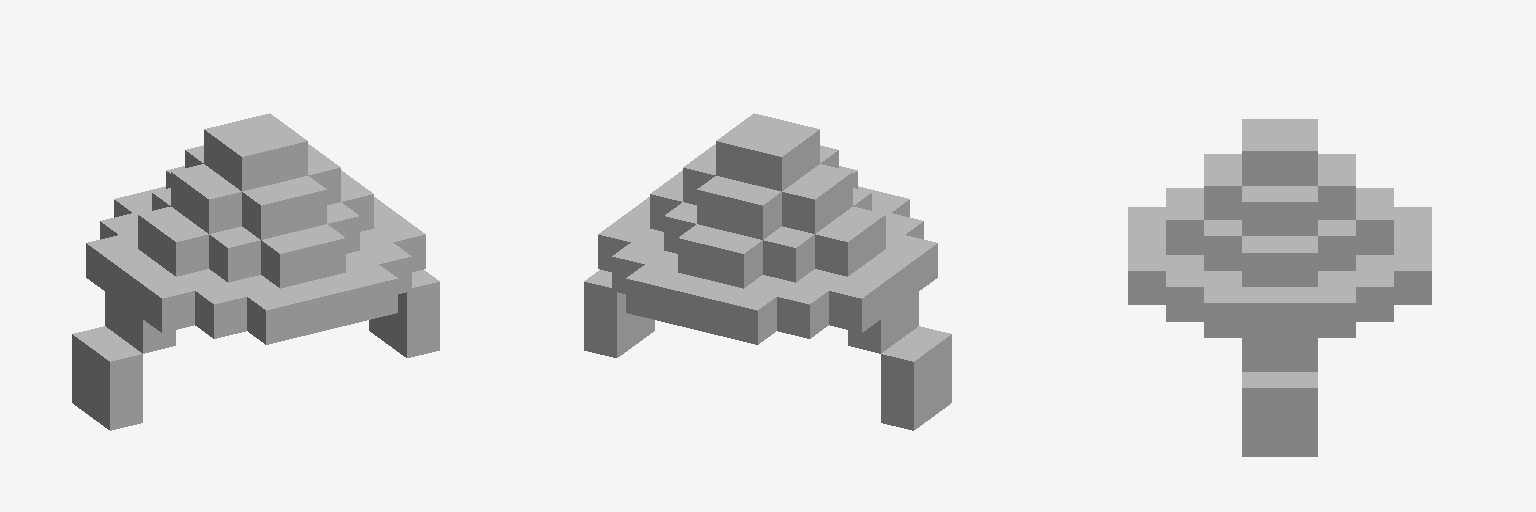
The model's file is Snowman_Hat_1.obj.
The picture shows the model from 3 angles: view 1: azimuth 30°, elevation 25°; view 2: azimuth 150°, elevation 25°; view 3: azimuth 270°, elevation 25°; orthographic projection.
Parts seen in each view (by area): view 1: object 1; view 2: object 1; view 3: object 1.
Part boxes in pixels (x1,y1,x2,y2): object 1: (72, 113, 439, 430); object 1: (584, 113, 951, 430); object 1: (1128, 119, 1431, 456).
Bounding box in the file's own units: 1 × 0.7 × 0.8.